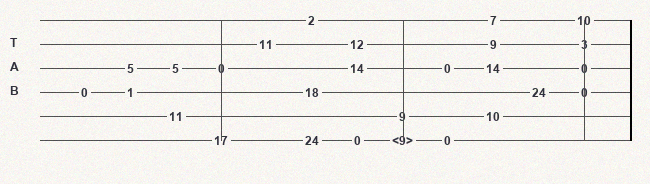0: (81, 86, 92, 99), (218, 62, 229, 75), (354, 134, 365, 147), (444, 134, 455, 147), (444, 62, 455, 75), (581, 86, 592, 99), (581, 62, 592, 75)
1: (127, 86, 138, 99)
10: (486, 110, 504, 123), (577, 14, 595, 27)
11: (169, 110, 187, 123), (259, 38, 277, 51)
12: (350, 38, 368, 51)
14: (350, 62, 368, 75), (486, 62, 504, 75)
17: (214, 134, 232, 147)
18: (305, 86, 323, 99)
2: (308, 14, 319, 27)
24: (305, 134, 323, 147), (532, 86, 550, 99)
3: (581, 38, 592, 51)
5: (127, 62, 138, 75), (172, 62, 183, 75)
7: (490, 14, 501, 27)
9: (399, 110, 410, 123), (490, 38, 501, 51)
harmonic: (392, 134, 417, 147)
